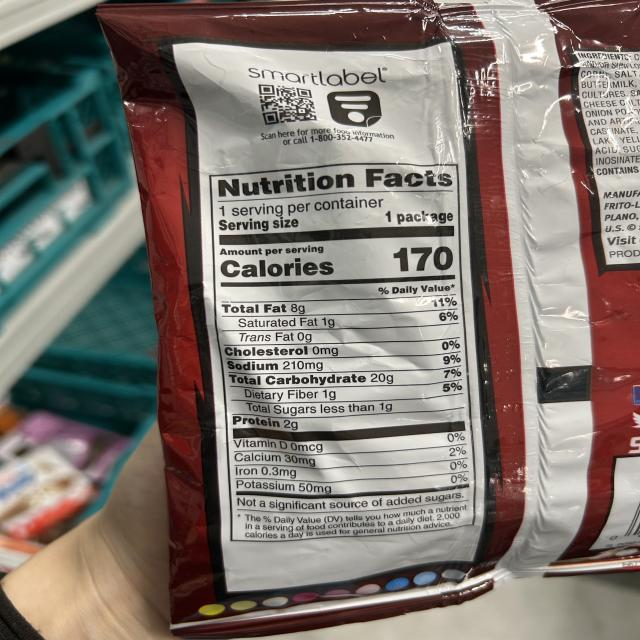object_name: (144, 8, 640, 591)
